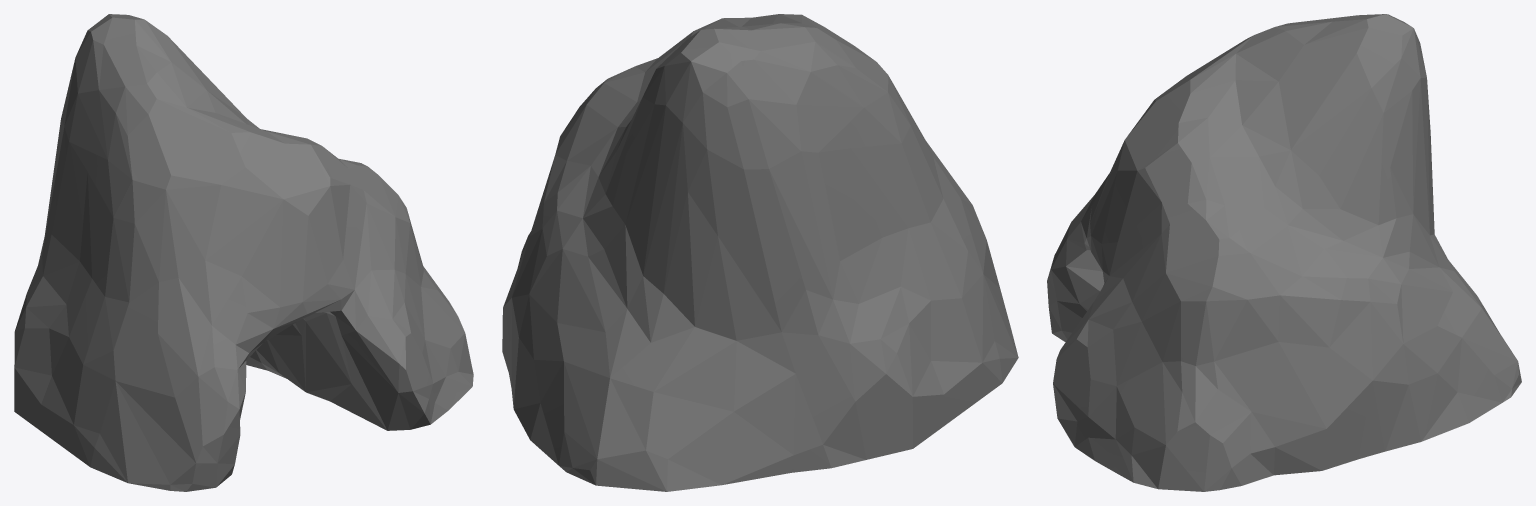
Rendered from Cave_01.fbx.
3 renders of one model, left to right at view 1: azimuth 30°, elevation 25°; view 2: azimuth 150°, elevation 25°; view 3: azimuth 270°, elevation 25°, orthographic. The views are drawn at different scales.
Parts seen in each view (by area): view 1: Cave_01_LOD0; view 2: Cave_01_LOD0; view 3: Cave_01_LOD0.
Part boxes in pixels (bbox=[...]): Cave_01_LOD0: bbox=[14, 14, 473, 491]; Cave_01_LOD0: bbox=[502, 14, 1018, 491]; Cave_01_LOD0: bbox=[1047, 14, 1521, 491].
Size of what is drawn, in the model's own units: 9.21 by 7.7 by 9.45.
